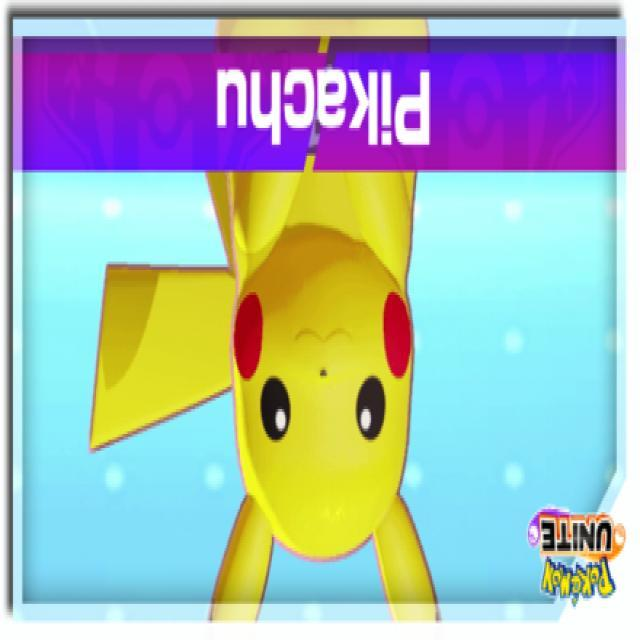Pikachu: (130, 180, 473, 624)
